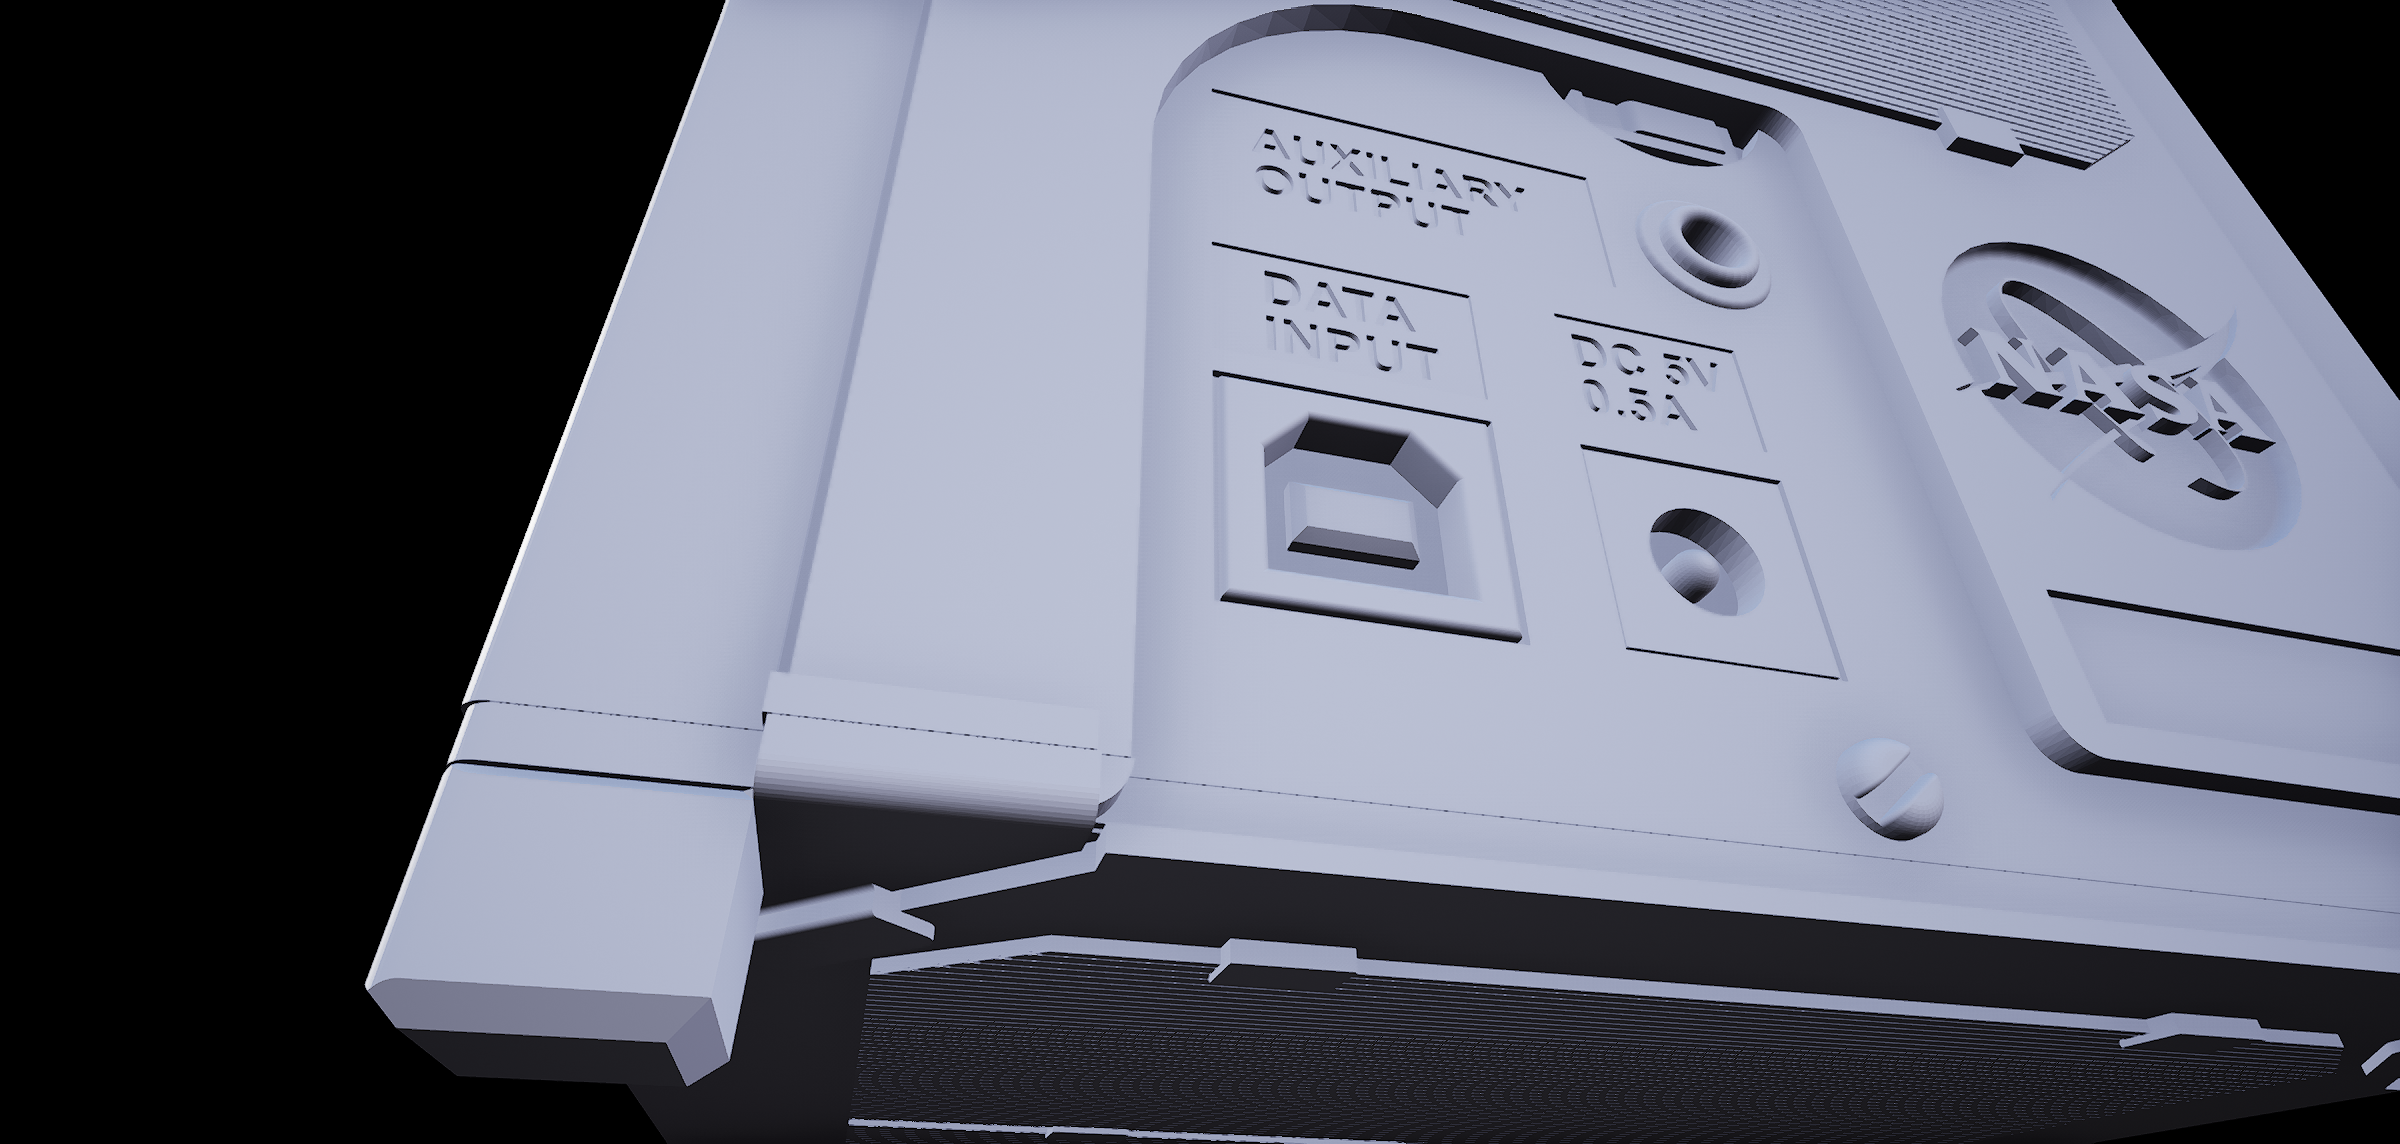aux: (1632, 179, 1788, 326)
dc: (1645, 493, 1782, 639)
usb: (1254, 397, 1495, 626)
